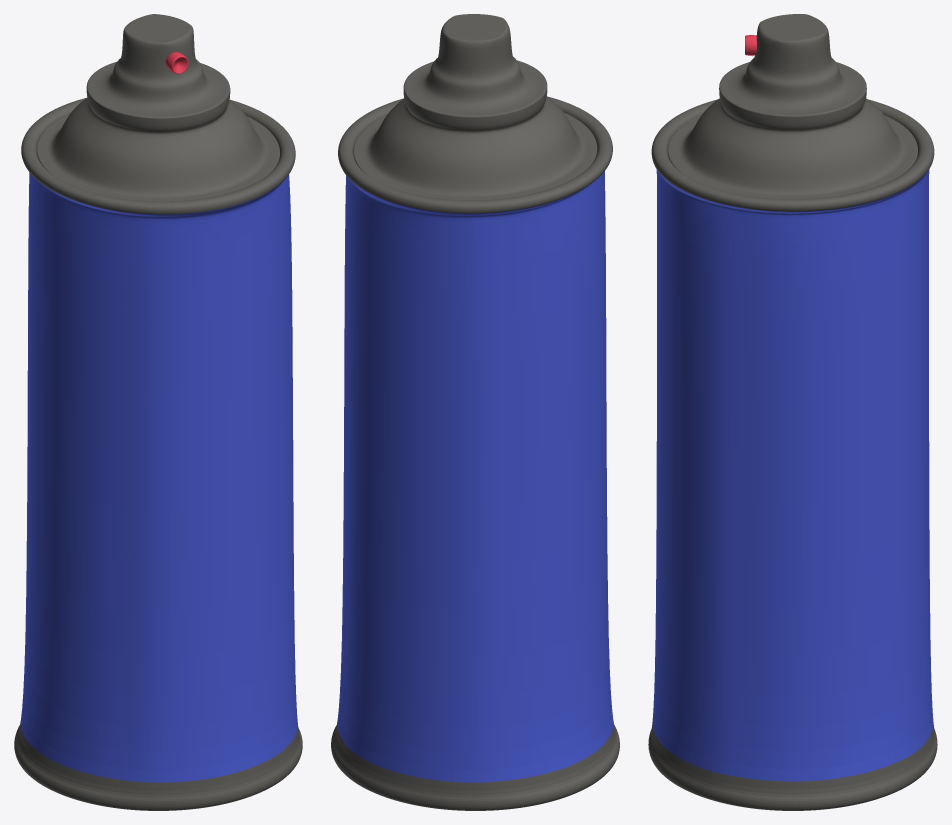
The model's file is spray_can.fbx.
3 views of the same model, side by side, from view 1: azimuth 30°, elevation 25°; view 2: azimuth 150°, elevation 25°; view 3: azimuth 270°, elevation 25° (orthographic).
Visible parts, largest first — view 1: Cylinder; view 2: Cylinder; view 3: Cylinder.
Boxes of the visible parts, <box> form: Cylinder: <box>14,14,302,810</box>; Cylinder: <box>331,14,619,810</box>; Cylinder: <box>648,14,937,810</box>.
Bounding box in the file's own units: 138 × 383 × 138.
